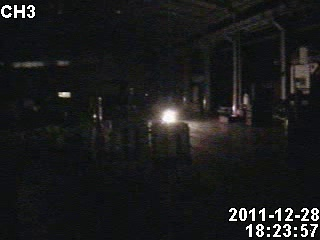fire: (157, 105, 179, 126)
